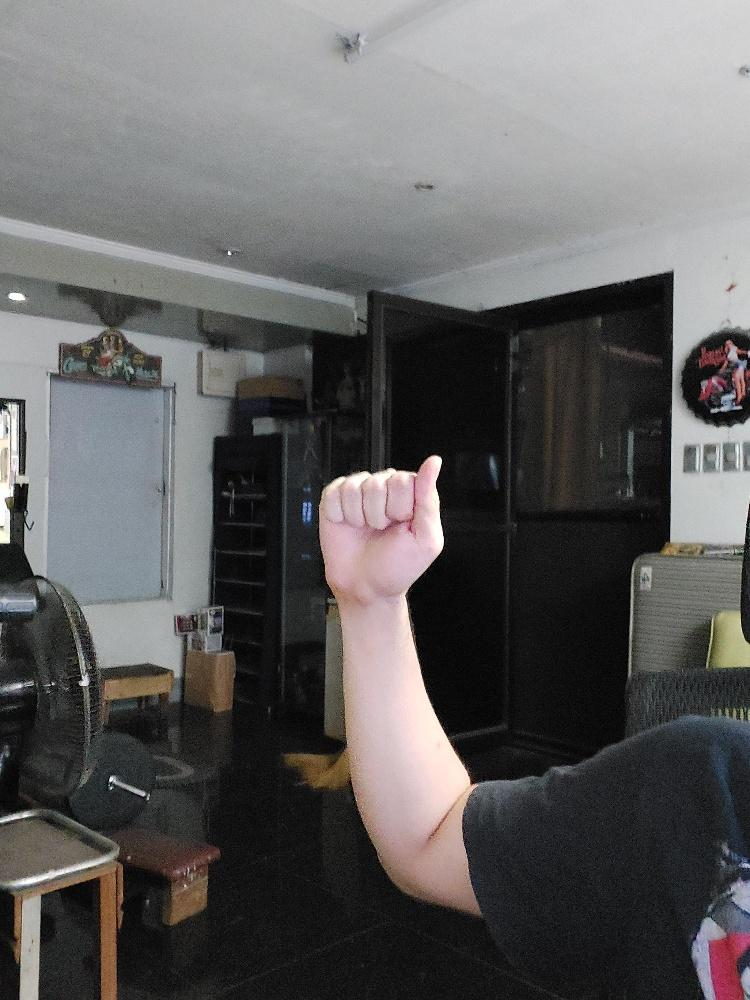a: (316, 453, 445, 599)
